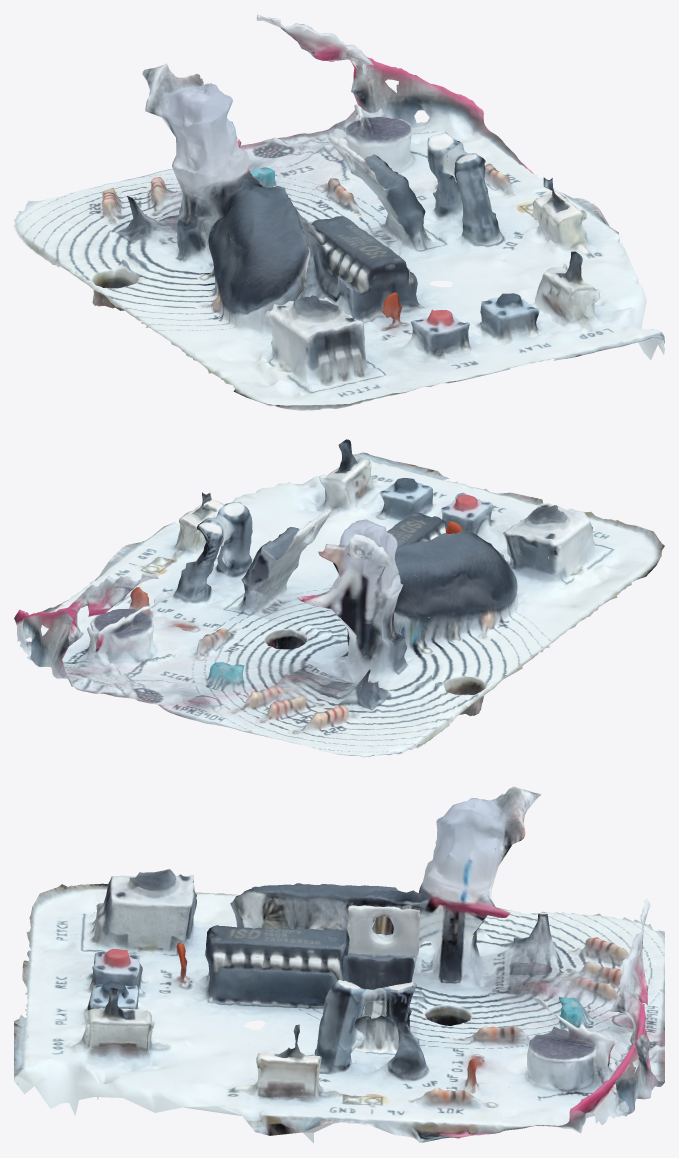
The model's file is cartes.glb.
3 views of the same model, one above another, from view 1: azimuth 30°, elevation 25°; view 2: azimuth 150°, elevation 25°; view 3: azimuth 270°, elevation 25° (orthographic). The views are drawn at different scales.
Visible parts, largest first — view 1: Object_4; view 2: Object_4; view 3: Object_4.
Boxes of the visible parts, <box> form: Object_4: <box>14,14,664,410</box>; Object_4: <box>14,439,664,757</box>; Object_4: <box>14,786,664,1143</box>.
Bounding box in the file's own units: 0.241 × 0.1081 × 0.2855.
Materials: 1 (1 with a texture image).
